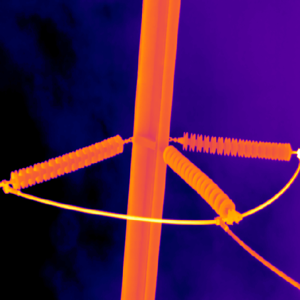insulator: (11, 133, 124, 190), (162, 141, 234, 218), (177, 129, 292, 161)
